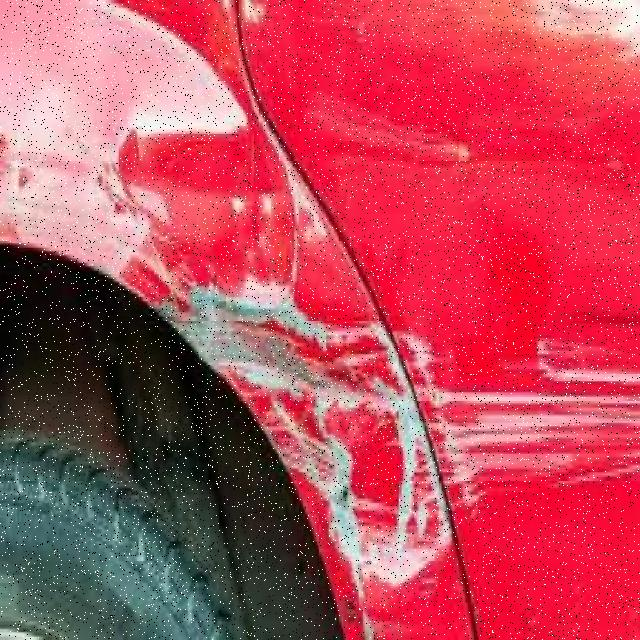damage: (162, 267, 640, 594), (0, 127, 185, 303), (301, 78, 486, 181)
